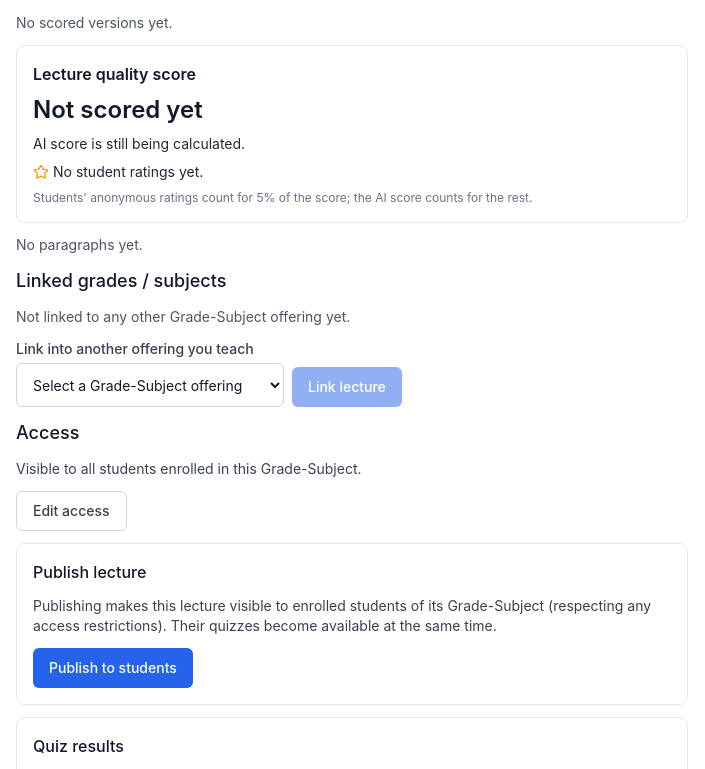
it: LectureLinksPanel (T-122) › shows an inline error when linking fails
The width and height of the screenshot is (705, 769).
(page scrolled)
Select "Grade 8 · Chemistry (2025-2026)" in the dropdown labelled "Link into another offering you teach" at (150, 385), box [16, 363, 284, 407]
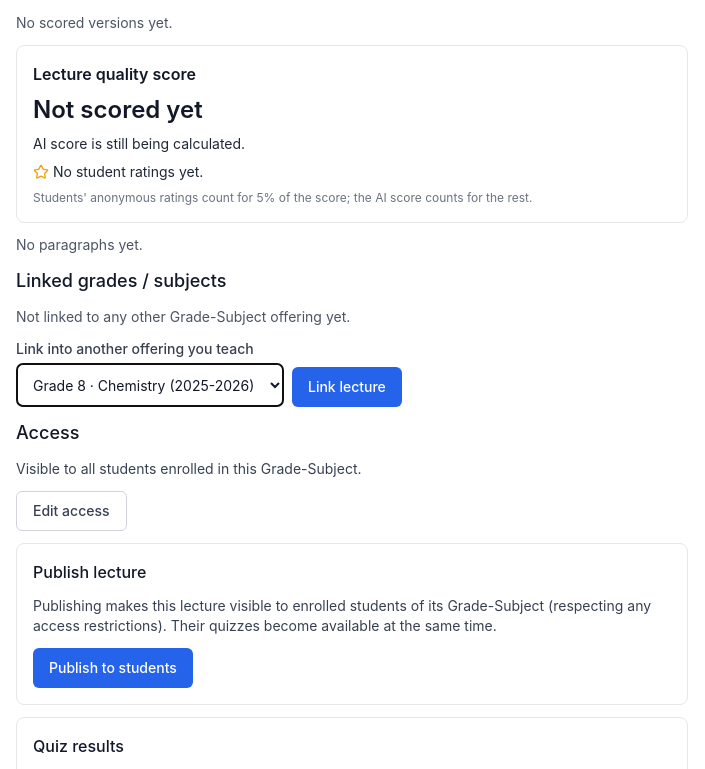
Click the button "Link lecture" at (347, 387), box [292, 367, 402, 407]
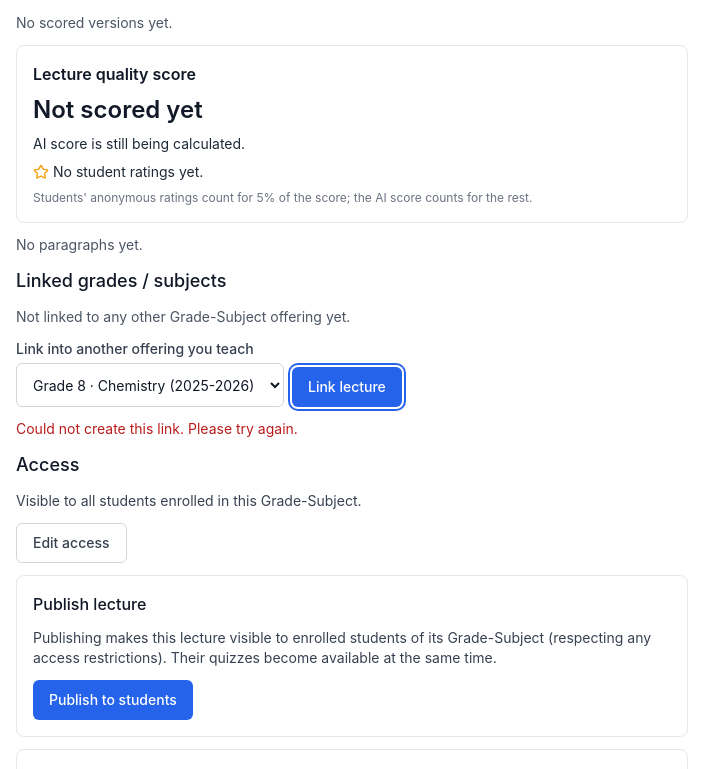
Now the message "Could not create this link. Please try again." is shown, box [16, 420, 298, 437]
